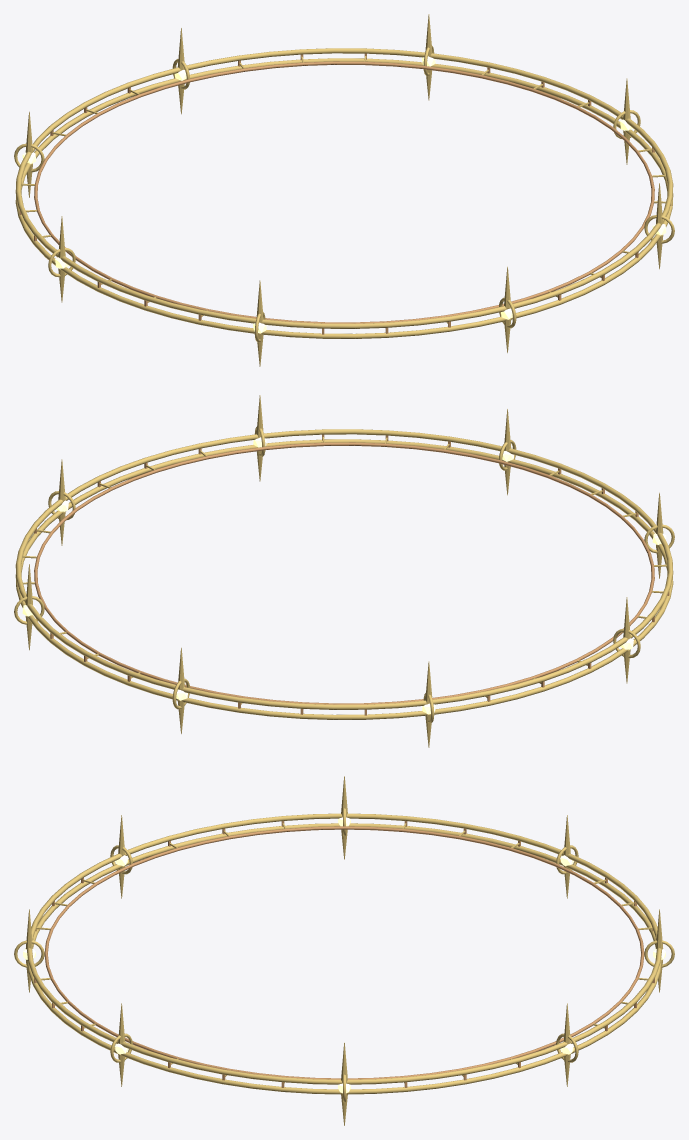
Rendered from solar_ring.glb.
The picture shows the model from 3 angles, top to bottom: view 1: azimuth 30°, elevation 25°; view 2: azimuth 150°, elevation 25°; view 3: azimuth 270°, elevation 25°; orthographic projection. The views are drawn at different scales.
Parts seen in each view (by area): view 1: CompassDrop_0, EquatorWire, SunGem_0; view 2: CompassDrop_0, EquatorWire, SunGem_0; view 3: CompassDrop_0, EquatorWire, SunGem_0.
Part boxes in pixels (x1=…): CompassDrop_0: x1=14, y1=14, x2=674, y2=366; EquatorWire: x1=19, y1=53, x2=671, y2=334; SunGem_0: x1=22, y1=56, x2=666, y2=333; CompassDrop_0: x1=14, y1=395, x2=674, y2=747; EquatorWire: x1=17, y1=434, x2=669, y2=715; SunGem_0: x1=22, y1=437, x2=666, y2=714; CompassDrop_0: x1=14, y1=776, x2=674, y2=1125; EquatorWire: x1=34, y1=821, x2=654, y2=1087; SunGem_0: x1=23, y1=817, x2=665, y2=1093.
Size of the model in its own units: 39.44 by 5.5 by 39.44.
